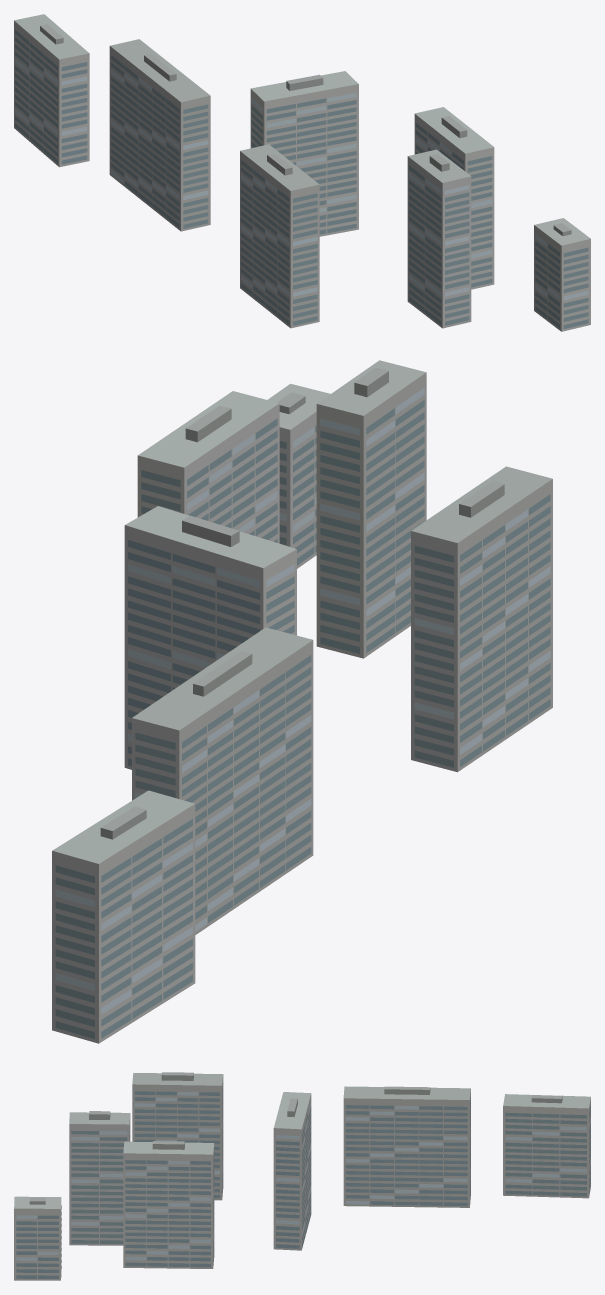
File: apt-a13610202.glb
3 views of the same model, one above another, from view 1: azimuth 30°, elevation 25°; view 2: azimuth 150°, elevation 25°; view 3: azimuth 270°, elevation 25° (orthographic). The views are drawn at different scales.
Parts seen in each view (by area): view 1: apt-a13610202; view 2: apt-a13610202; view 3: apt-a13610202.
Boxes of the visible parts, box(x1,y1,x2,y2) form: apt-a13610202: box(14, 14, 590, 331); apt-a13610202: box(52, 360, 552, 1043); apt-a13610202: box(14, 1072, 590, 1280).
Bounding box in the file's own units: 88.37 × 54 × 222.
